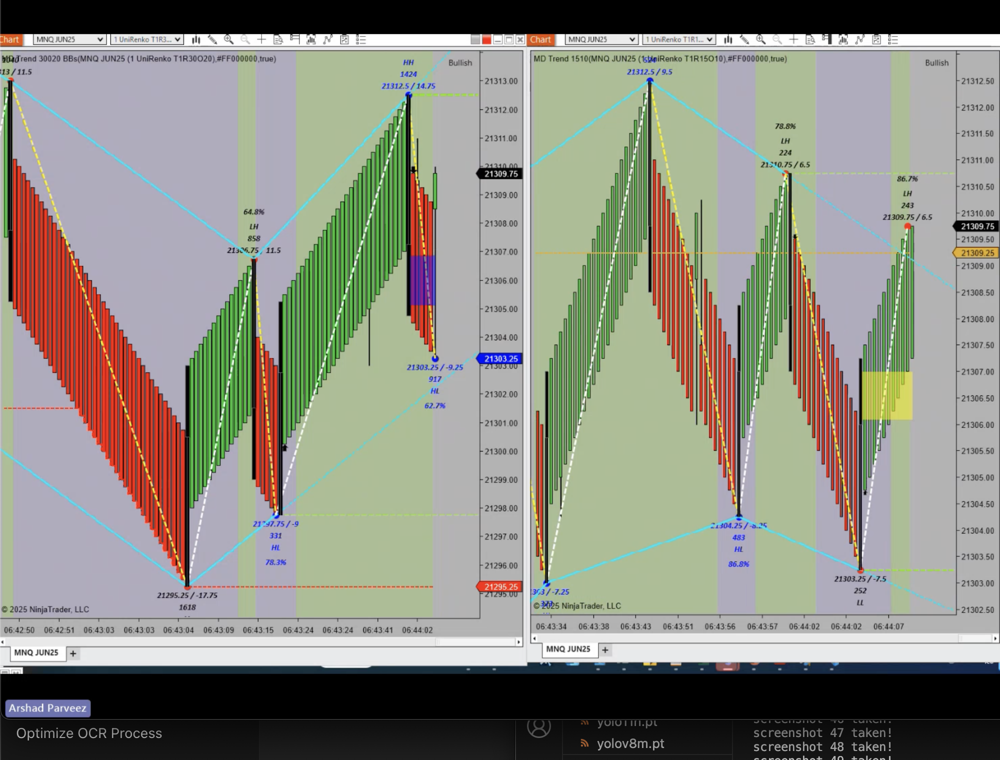HH: (399, 53, 420, 71)
HL: (728, 540, 751, 558), (266, 537, 284, 558), (423, 383, 446, 399)
LH: (775, 135, 800, 151), (897, 186, 920, 202), (243, 216, 263, 232)
LL: (848, 596, 870, 611)
